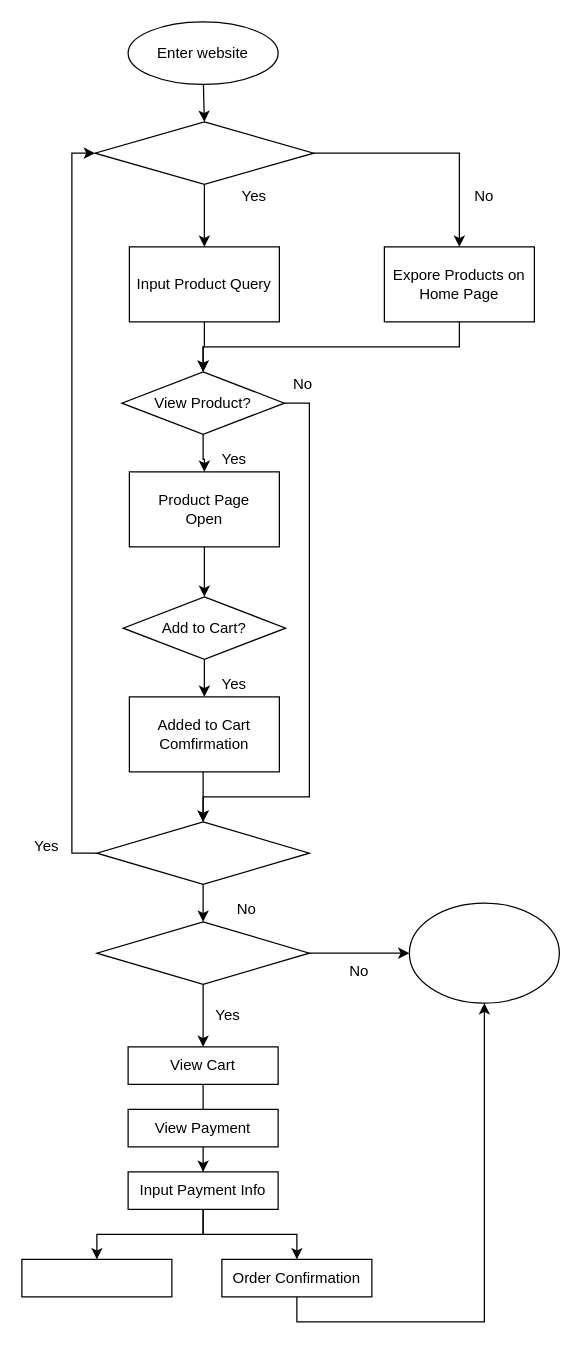
Some shapes in this 581 by 1354 pixel diagram are drawn without their labels. The shapes that lost their labels are listed below. From the top down, each one's centre as x and y in pixels, then its label:
At (204,152): "Search Product?".
At (202,852): "Continue Shopping?".
At (202,952): "Checkout?".
At (483,952): "Leave Website".
At (96,1277): "Recieve Confirmation Email".
